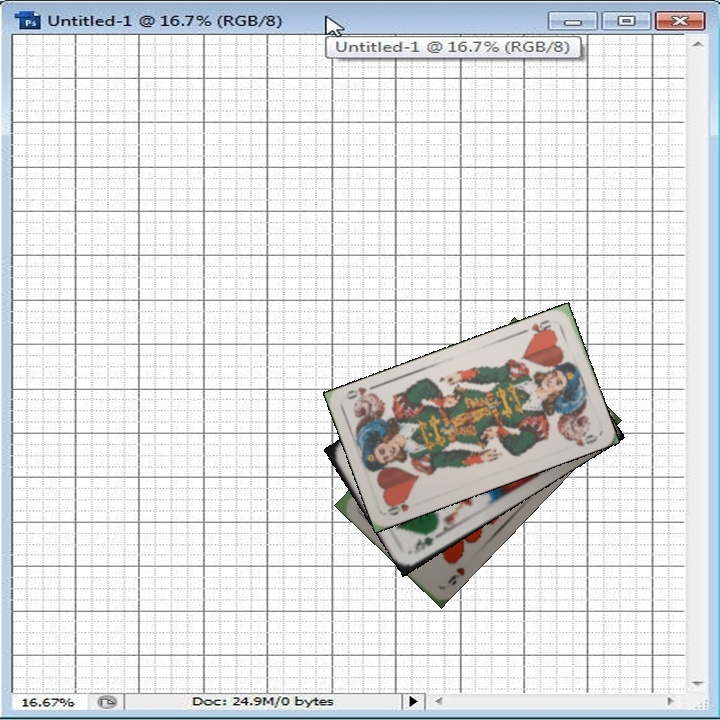GK: (410, 529, 442, 557)
H9: (443, 563, 468, 589)
HO: (525, 315, 557, 342), (383, 495, 412, 518)
